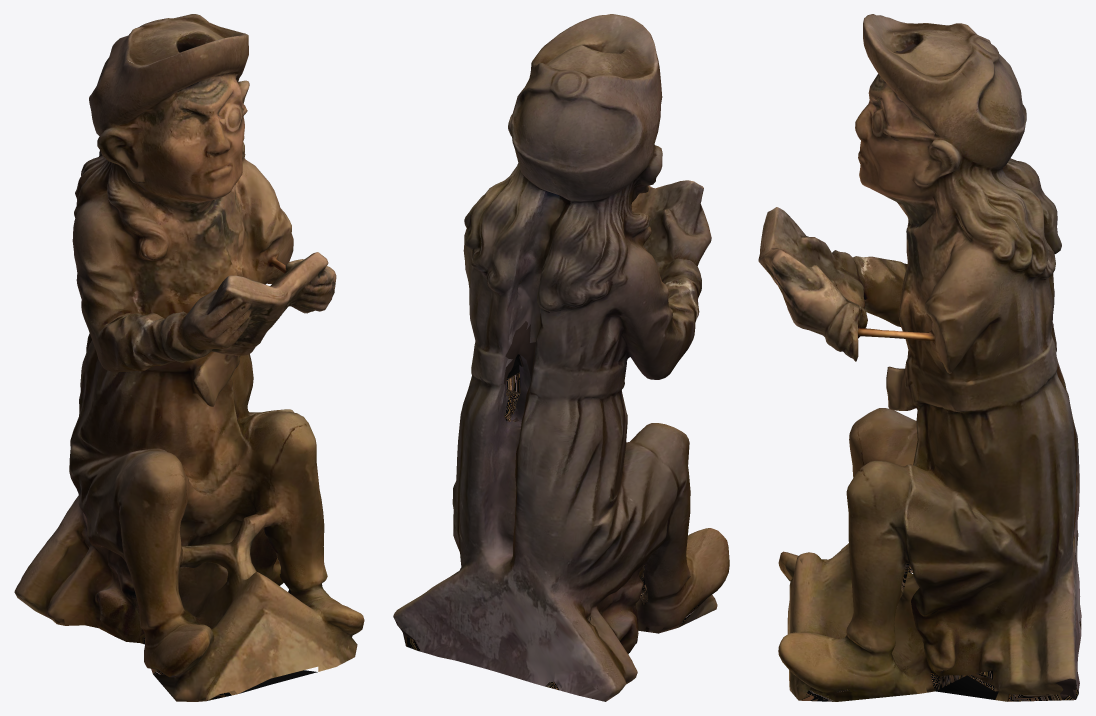
File: 1_man_with_book.glb
3 renders of one model, left to right at view 1: azimuth 30°, elevation 25°; view 2: azimuth 150°, elevation 25°; view 3: azimuth 270°, elevation 25°, orthographic. The views are drawn at different scales.
Visible parts, largest first — view 1: Mesh_0; view 2: Mesh_0; view 3: Mesh_0.
Part boxes in pixels (bbox=[...]): Mesh_0: bbox=[14, 14, 364, 701]; Mesh_0: bbox=[393, 14, 729, 701]; Mesh_0: bbox=[758, 14, 1081, 701].
Bounding box in the file's own units: 0.7914 × 2 × 0.9283.
Materials: 7 (7 with a texture image).
